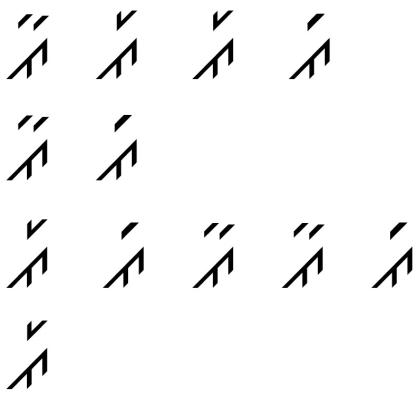kan: (174, 216, 240, 294), (5, 112, 54, 189), (5, 8, 54, 84), (279, 220, 332, 290)
kang: (96, 211, 149, 296), (89, 108, 142, 183), (359, 218, 414, 289), (291, 12, 337, 89)
kar: (4, 311, 56, 397), (3, 214, 56, 293), (186, 9, 240, 84), (94, 6, 146, 82)
